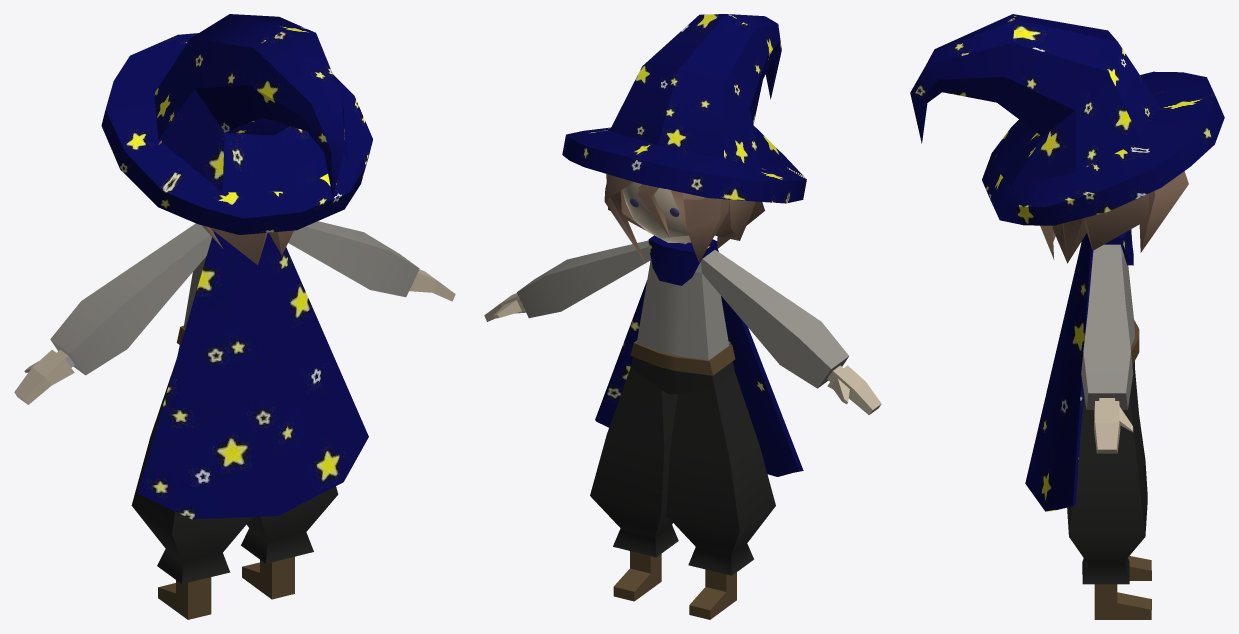
Rendered from Numi.fbx.
The picture shows the model from 3 angles, left to right: view 1: azimuth 30°, elevation 25°; view 2: azimuth 150°, elevation 25°; view 3: azimuth 270°, elevation 25°; orthographic projection. The views are drawn at different scales.
Parts seen in each view (by area): view 1: Numi1_cuerpo1; view 2: Numi1_cuerpo1; view 3: Numi1_cuerpo1.
Part boxes in pixels (left/top/right/bottom): Numi1_cuerpo1: left=14, top=14, right=455, bottom=619; Numi1_cuerpo1: left=484, top=14, right=881, bottom=619; Numi1_cuerpo1: left=910, top=14, right=1224, bottom=619.
Size of the model in its own units: 2.29 by 3.08 by 1.53.
8 materials, 1 textured.
